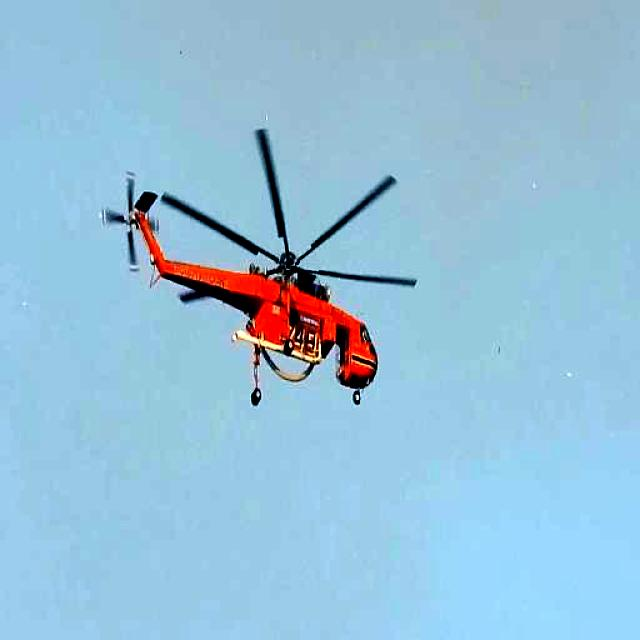drone: (100, 116, 422, 415)
